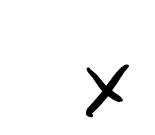mult: (86, 64, 128, 117)
